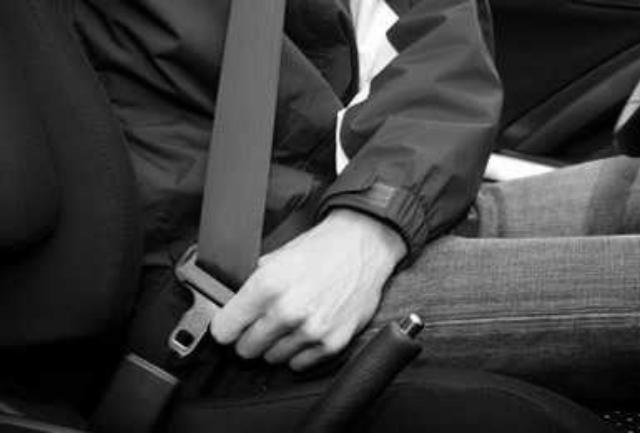Seatbelt: (169, 0, 289, 358)
